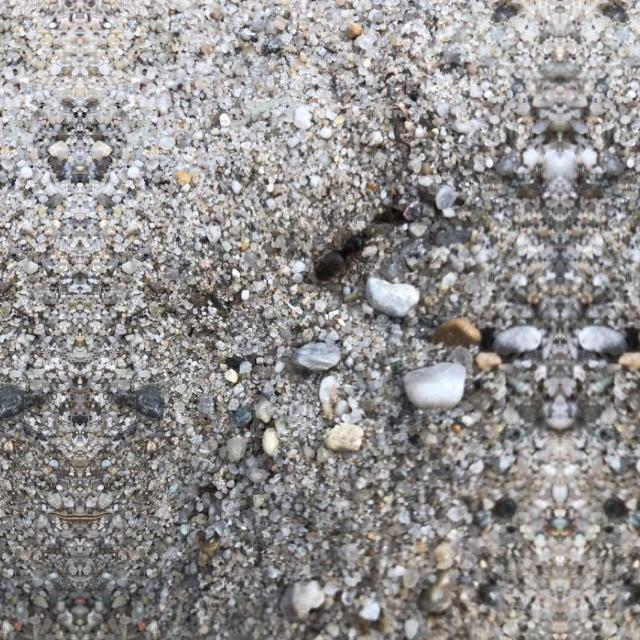Formica: (311, 223, 387, 291)
